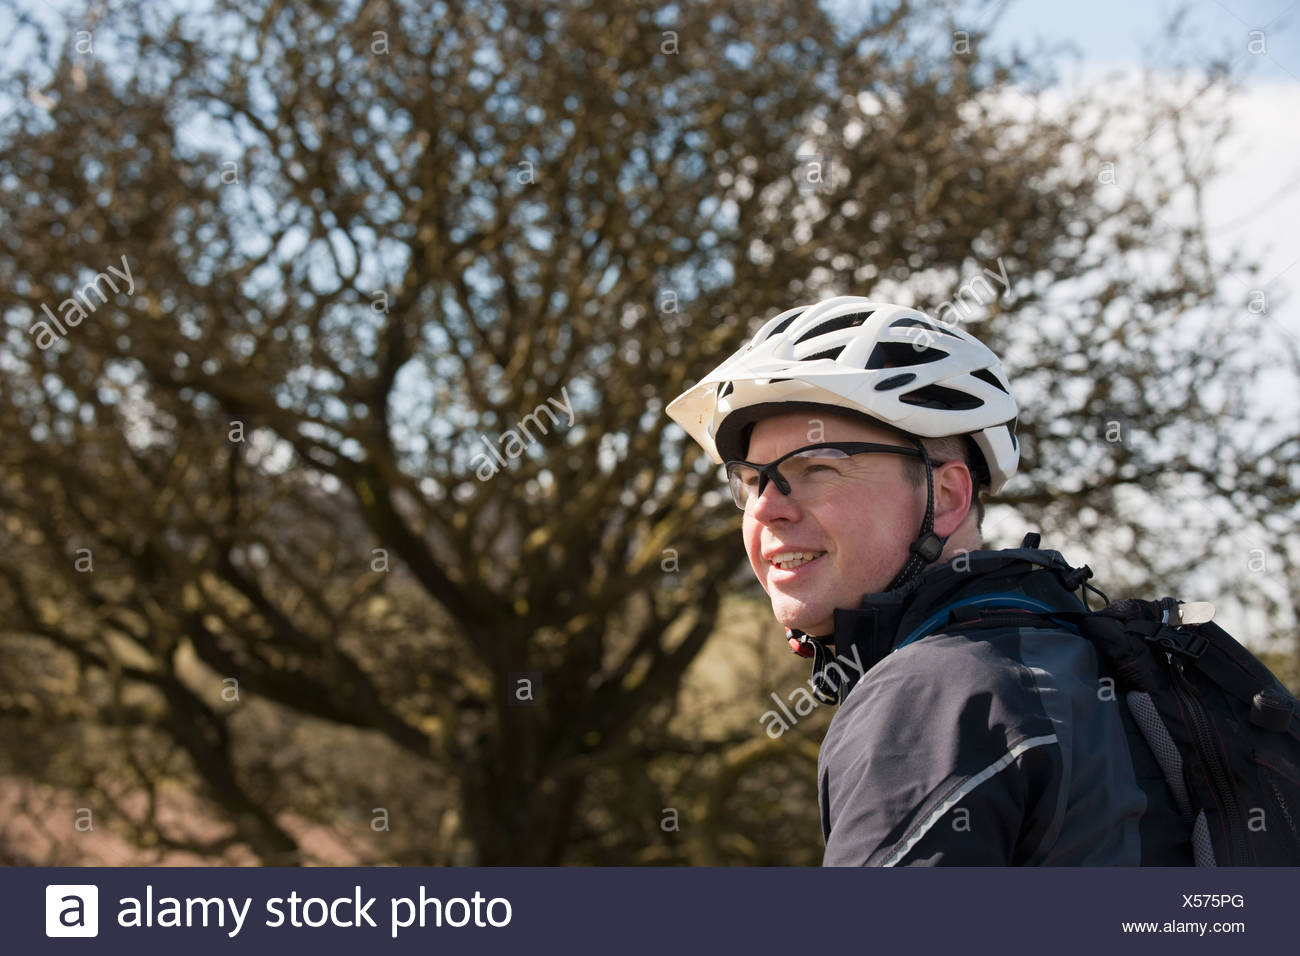helmet: (666, 295, 1019, 631)
